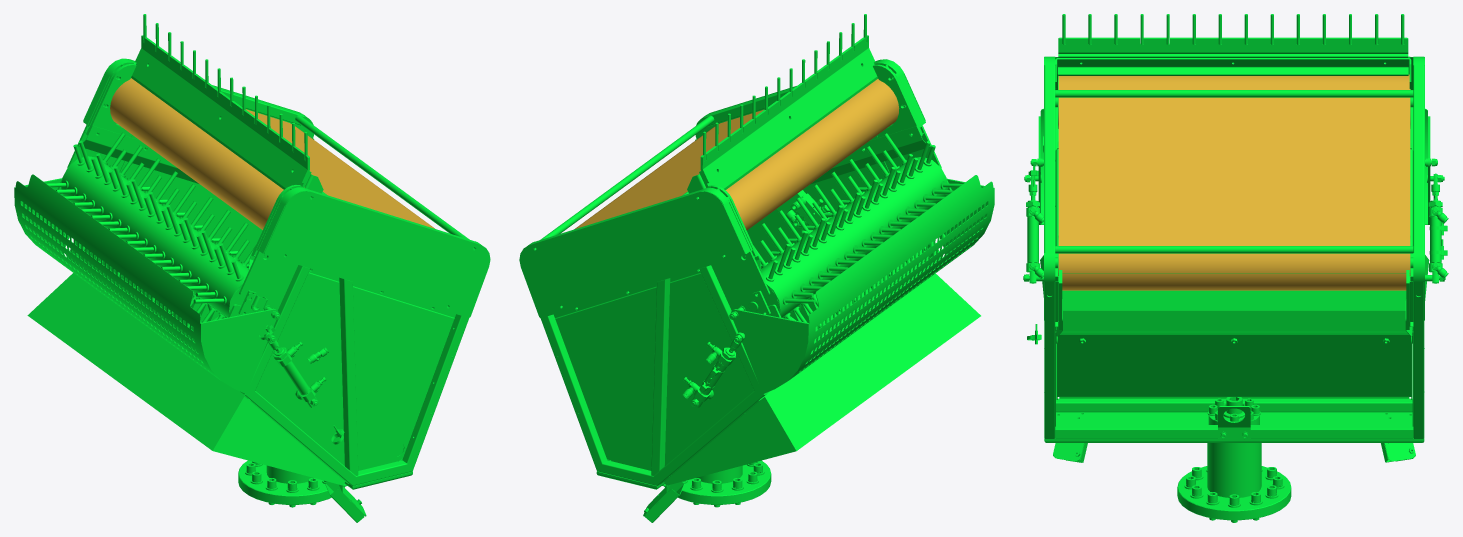
Rendered from tool-700.glb.
The picture shows the model from 3 angles, left to right: view 1: azimuth 30°, elevation 25°; view 2: azimuth 150°, elevation 25°; view 3: azimuth 270°, elevation 25°; orthographic projection. The views are drawn at different scales.
Parts seen in each view (by area): view 1: FJRB000910 钢结构布料头框架_默认<按加工>, FJRB000910 接料口_默认<按加工>, FJRB000914 活动打散护罩一, FJLA003270 盖板罩子_默认<按加工>, FJRB000913 伺服电动打散滚筒_默认<按加工>, FJRB000910 皮带U17-1A-W, FJRB000910 刚性耙子_默认<按加工>, FJRB000910 滚筒皮带前刮板_默认<按加工>, FJLA00091006 ABB机械臂转接法兰_默认<按加工>, FJLA003270 滚筒皮带侧刮板压板二_默认<按加工>, FJLA003270 滚筒皮带转弯刮板_默认<按加工>, 复件 MF-20x55-CA-SDB _c^不锈钢迷你气缸 MF20x55SCA (+1 smaller); view 2: FJRB000910 钢结构布料头框架_默认<按加工>, FJRB000910 接料口_默认<按加工>, FJRB000914 活动打散护罩一, FJLA003270 盖板罩子_默认<按加工>, FJRB000913 伺服电动打散滚筒_默认<按加工>, FJRB000910 皮带U17-1A-W, FJRB000910 刚性耙子_默认<按加工>, FJRB000910 滚筒皮带前刮板_默认<按加工>, FJLA00091006 ABB机械臂转接法兰_默认<按加工>, FJLA003270 滚筒皮带侧刮板压板_默认<按加工>, FJLA003270 滚筒皮带转弯刮板_默认<按加工>, _4V210-08(By).stp (+2 smaller); view 3: FJRB000910 皮带U17-1A-W, FJRB000910 布料头后挡板_默认<按加工>, FJRB000910 钢结构布料头框架_默认<按加工>, FJRB000910 刚性耙子_默认<按加工>, FJRB000910 滚筒皮带前刮板支架_默认<按加工>, FJLA00091006 ABB机械臂转接法兰_默认<按加工>, FJRB000910 滚筒皮带前刮板_默认<按加工>, 复件 MF-20x55-CA-SDB _c^不锈钢迷你气缸 MF20x55SCA (×2), FJRB000914 活动打散护罩一, 激光传感器钣金 (×2), 出线管安装板, FJRB000910 滚筒皮带承重滑板_默认<按加工> (+1 smaller).
Boxes of the visible parts, x1,y1,x2,y2 form: FJRB000910 钢结构布料头框架_默认<按加工>: [57, 58, 482, 489]; FJRB000910 接料口_默认<按加工>: [27, 273, 349, 485]; FJRB000914 活动打散护罩一: [14, 174, 278, 393]; FJLA003270 盖板罩子_默认<按加工>: [264, 191, 490, 317]; FJRB000913 伺服电动打散滚筒_默认<按加工>: [46, 132, 254, 327]; FJRB000910 皮带U17-1A-W: [110, 78, 434, 229]; FJRB000910 刚性耙子_默认<按加工>: [135, 14, 309, 183]; FJRB000910 滚筒皮带前刮板_默认<按加工>: [131, 63, 311, 189]; FJLA00091006 ABB机械臂转接法兰_默认<按加工>: [238, 460, 345, 504]; FJLA003270 滚筒皮带侧刮板压板二_默认<按加工>: [79, 125, 198, 183]; FJLA003270 滚筒皮带转弯刮板_默认<按加工>: [86, 64, 136, 137]; 复件 MF-20x55-CA-SDB _c^不锈钢迷你气缸 MF20x55SCA: [274, 347, 317, 407]; FJRB000910 钢结构布料头框架_默认<按加工>: [527, 59, 951, 489]; FJRB000910 接料口_默认<按加工>: [660, 273, 980, 485]; FJRB000914 活动打散护罩一: [731, 175, 994, 393]; FJLA003270 盖板罩子_默认<按加工>: [519, 191, 744, 318]; FJRB000913 伺服电动打散滚筒_默认<按加工>: [755, 133, 962, 327]; FJRB000910 皮带U17-1A-W: [574, 79, 899, 230]; FJRB000910 刚性耙子_默认<按加工>: [700, 14, 874, 183]; FJRB000910 滚筒皮带前刮板_默认<按加工>: [699, 63, 877, 189]; FJLA00091006 ABB机械臂转接法兰_默认<按加工>: [664, 460, 771, 504]; FJLA003270 滚筒皮带侧刮板压板_默认<按加工>: [810, 126, 929, 184]; FJLA003270 滚筒皮带转弯刮板_默认<按加工>: [873, 64, 922, 137]; _4V210-08(By).stp: [777, 190, 825, 230]; FJRB000910 皮带U17-1A-W: [1058, 74, 1410, 290]; FJRB000910 布料头后挡板_默认<按加工>: [1056, 290, 1411, 399]; FJRB000910 钢结构布料头框架_默认<按加工>: [1044, 56, 1424, 442]; FJRB000910 刚性耙子_默认<按加工>: [1058, 14, 1408, 57]; FJRB000910 滚筒皮带前刮板支架_默认<按加工>: [1055, 58, 1411, 88]; FJLA00091006 ABB机械臂转接法兰_默认<按加工>: [1177, 443, 1291, 520]; FJRB000910 滚筒皮带前刮板_默认<按加工>: [1058, 54, 1408, 75]; 复件 MF-20x55-CA-SDB _c^不锈钢迷你气缸 MF20x55SCA (×2): [1026, 200, 1442, 283]; FJRB000914 活动打散护罩一: [1024, 108, 1444, 224]; 激光传感器钣金 (×2): [1053, 443, 1415, 461]; 出线管安装板: [1218, 406, 1250, 439]; FJRB000910 滚筒皮带承重滑板_默认<按加工>: [1055, 141, 1413, 245].
Size of the model in its own units: 0.6545 by 0.9239 by 0.7839.
